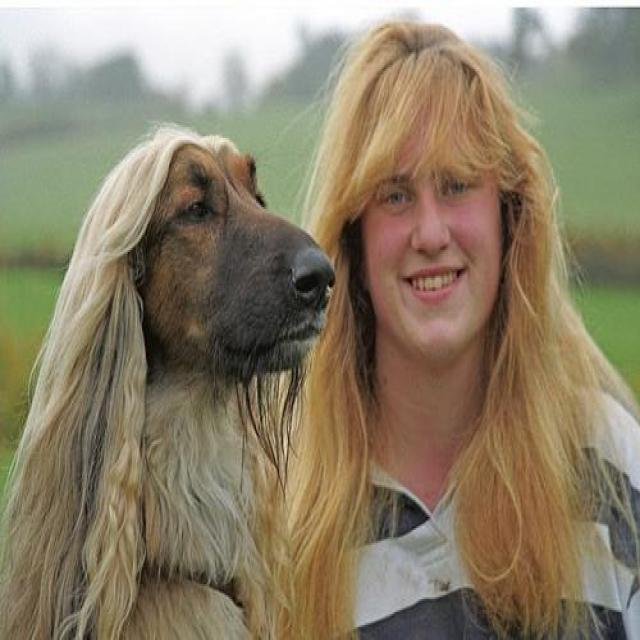afghan_hound: (0, 121, 338, 636)
